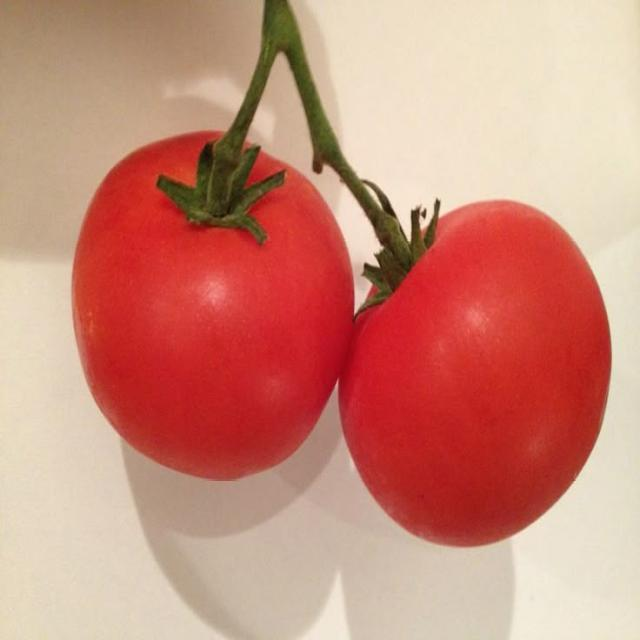tomato: (73, 132, 353, 478), (339, 201, 611, 546)
